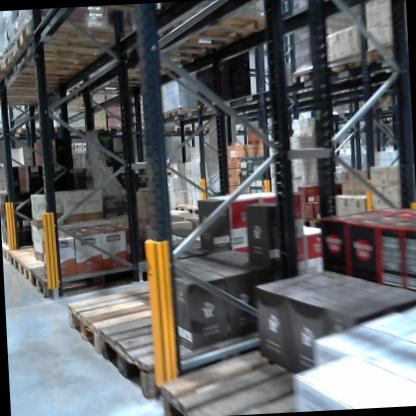pallet: (102, 294, 287, 402), (158, 331, 347, 416), (64, 278, 217, 361), (150, 2, 271, 55), (29, 254, 149, 305), (11, 15, 133, 62), (0, 38, 98, 79), (0, 57, 86, 87), (6, 240, 66, 275), (17, 251, 60, 286), (323, 53, 366, 78), (364, 41, 400, 70), (290, 61, 328, 86), (27, 120, 59, 135), (164, 106, 196, 119), (194, 97, 219, 113), (107, 122, 133, 135), (186, 203, 206, 218), (172, 121, 193, 135), (2, 239, 12, 264), (373, 105, 396, 115), (87, 123, 107, 133), (188, 124, 210, 133), (173, 198, 187, 212)
